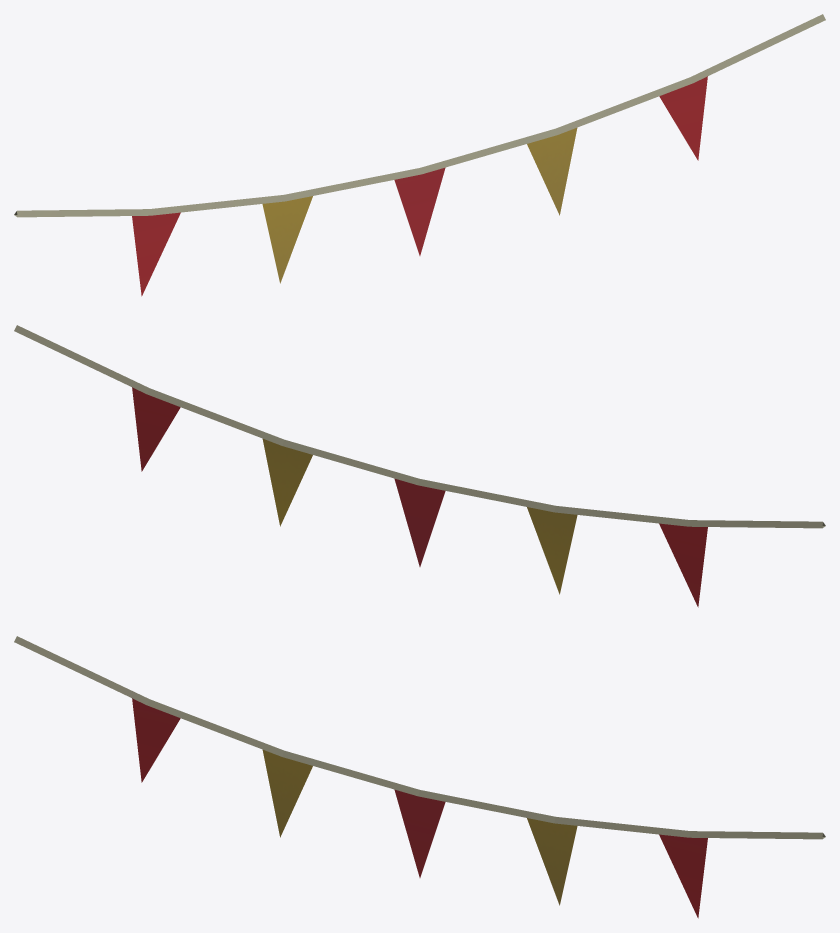
Rendered from Rope_2A.fbx.
The picture shows the model from 3 angles, top to bottom: view 1: azimuth 30°, elevation 25°; view 2: azimuth 150°, elevation 25°; view 3: azimuth 330°, elevation 25°; orthographic projection.
Visible parts, largest first — view 1: polySurface9885; view 2: polySurface9885; view 3: polySurface9885.
Part boxes in pixels (x1,y1,x2,y2): polySurface9885: [14, 14, 825, 296]; polySurface9885: [14, 325, 825, 607]; polySurface9885: [14, 636, 825, 918].
Bounding box in the file's own units: 594 × 101 × 4.33.
